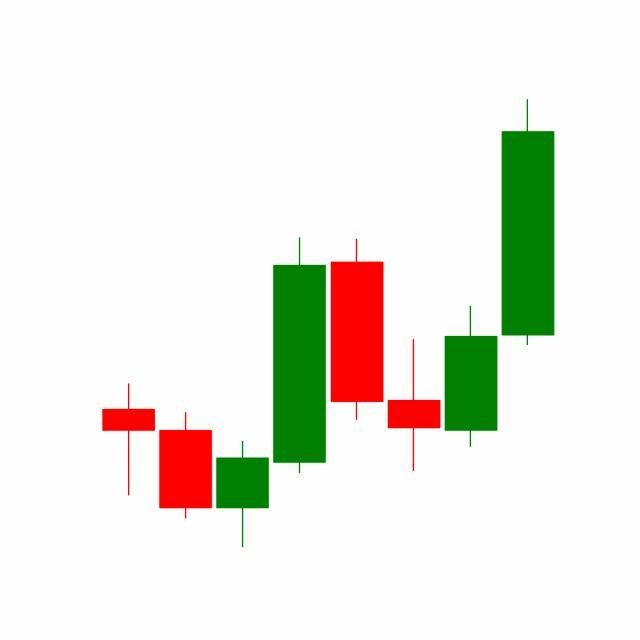Hikkake Pattern: (270, 100, 555, 479)
